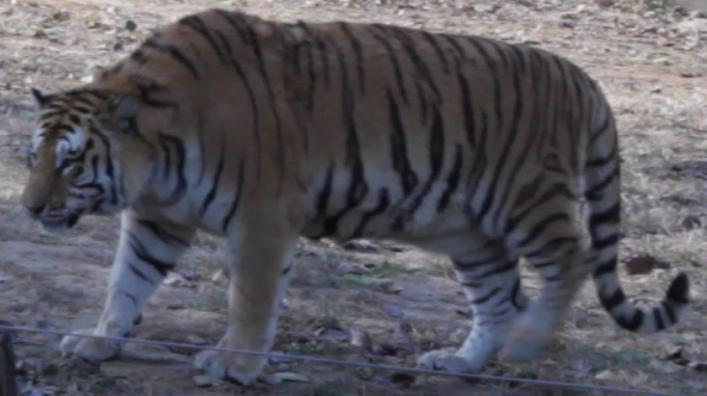tiger: (24, 9, 687, 383)
